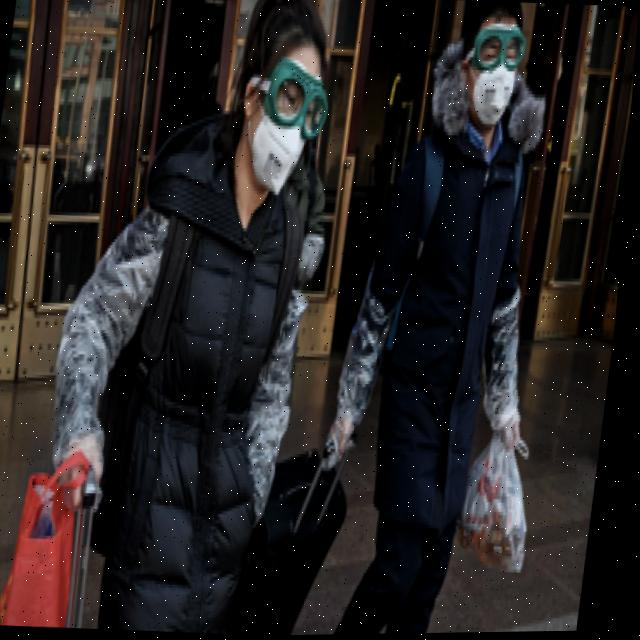Mask: (234, 73, 322, 197), (456, 52, 521, 130)
